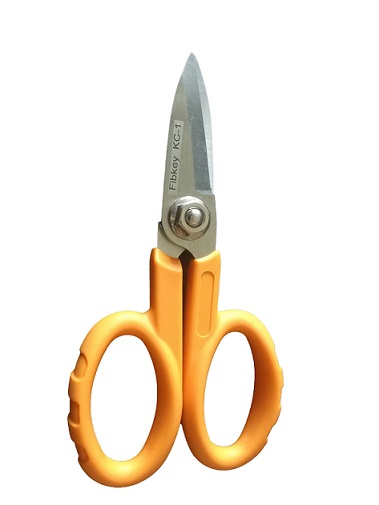scissors: (65, 47, 291, 488)
